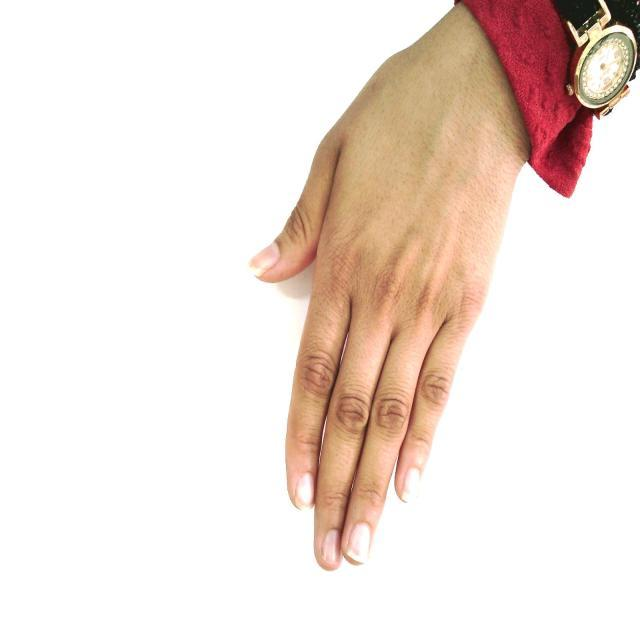Fingernail: (250, 243, 279, 274), (348, 523, 370, 563), (296, 472, 315, 511), (322, 529, 341, 564), (403, 468, 420, 503)
